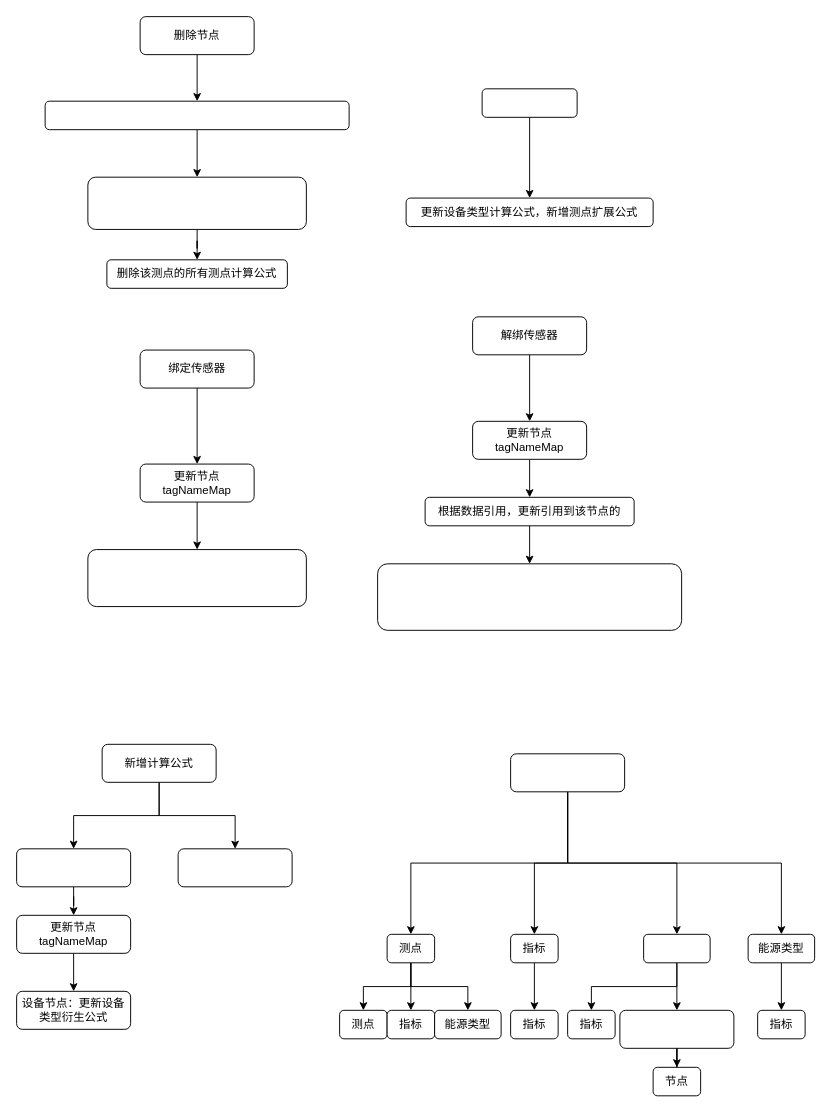
Image size: 831x1112. Some labels were removed from this diagram. Here are the shapes that lost their labels. From the top down, the centre of each, then its label:
At [196,115]: "根据数据引用，更新计算公式".
At [529,102]: "新增设备节点".
At [196,202]: "设备节点：如果是同编码的最后一个设备节点后更新计算公式和衍生计算公式".
At [196,578]: "设备节点： 更新相同编码设备节点的tagNameMap 更新设备类型衍生公式".
At [529,596]: "设备节点： 更新相同编码设备节点的tagNameMap 根据数据引用，更新引用到相同编码设备节点的计算公式 更新设备类型衍生公式".
At [567,772]: "删除计算公式".
At [73,867]: "测点公式".
At [234,867]: "设备类型公式".
At [676,948]: "设备类型".
At [676,1028]: "自动生成的设备、设备类型公式".
